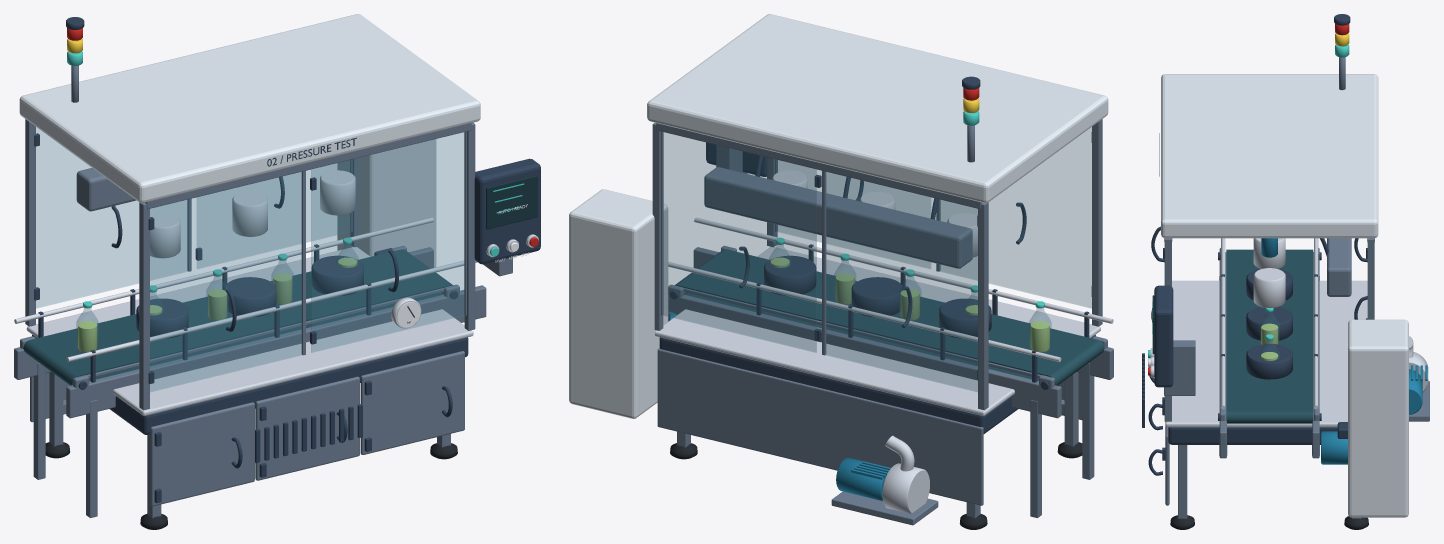
Rendered from gas.glb.
3 views of the same model, side by side, from view 1: azimuth 30°, elevation 25°; view 2: azimuth 150°, elevation 25°; view 3: azimuth 270°, elevation 25° (orthographic). The views are drawn at different scales.
Parts seen in each view (by area): view 1: Crown fascia.001, Polycarbonate safety door.004, Polycarbonate safety door.005, Leak tester top, Polycarbonate safety door.006, Continuous hygienic PU belt.012, Analyzer cabinet, Leak tester access door, Leak tester access door.002, Polycarbonate safety door.007, Leak tester access door.001, Folded side channel.002 (+25 smaller); view 2: Crown fascia.001, Polycarbonate safety door.007, Polycarbonate safety door.006, Leak tester rear, Analyzer cabinet, Leak tester top, Polycarbonate safety door.004, Continuous hygienic PU belt.012, Test manifold, Folded side channel.003, Leak tester chassis, Polycarbonate safety door.005 (+21 smaller); view 3: Crown fascia.001, Analyzer cabinet, Leak tester top, Continuous hygienic PU belt.012, Leak tester chassis, Test controller controller, Test manifold, Test controller mounting bracket, Test nest.002, Sealing bell.002, Test nest.001, Folded side channel.002 (+14 smaller).
Part boxes in pixels (bbox=[...]): Crown fascia.001: bbox=[19, 14, 480, 203]; Polycarbonate safety door.004: bbox=[150, 172, 301, 391]; Polycarbonate safety door.005: bbox=[311, 132, 464, 352]; Leak tester top: bbox=[26, 247, 473, 415]; Polycarbonate safety door.006: bbox=[36, 127, 187, 308]; Continuous hygienic PU belt.012: bbox=[23, 249, 452, 385]; Analyzer cabinet: bbox=[337, 139, 436, 267]; Leak tester access door: bbox=[150, 402, 254, 506]; Leak tester access door.002: bbox=[360, 351, 464, 454]; Polycarbonate safety door.007: bbox=[197, 160, 350, 268]; Leak tester access door.001: bbox=[255, 376, 359, 480]; Folded side channel.002: bbox=[66, 285, 486, 418]; Crown fascia.001: bbox=[647, 14, 1108, 203]; Polycarbonate safety door.007: bbox=[663, 132, 816, 352]; Polycarbonate safety door.006: bbox=[826, 172, 977, 391]; Leak tester rear: bbox=[657, 348, 983, 505]; Analyzer cabinet: bbox=[569, 189, 668, 418]; Leak tester top: bbox=[655, 247, 1100, 415]; Polycarbonate safety door.004: bbox=[940, 127, 1091, 308]; Continuous hygienic PU belt.012: bbox=[675, 249, 1104, 385]; Test manifold: bbox=[704, 167, 972, 268]; Folded side channel.003: bbox=[668, 295, 1061, 418]; Leak tester chassis: bbox=[659, 335, 1095, 433]; Polycarbonate safety door.005: bbox=[777, 160, 930, 268]; Crown fascia.001: bbox=[1161, 74, 1378, 238]; Analyzer cabinet: bbox=[1348, 319, 1408, 517]; Leak tester top: bbox=[1165, 280, 1367, 427]; Continuous hygienic PU belt.012: bbox=[1226, 249, 1313, 423]; Leak tester chassis: bbox=[1168, 427, 1337, 444]; Test controller controller: bbox=[1154, 285, 1173, 387]; Test manifold: bbox=[1327, 238, 1351, 296]; Test controller mounting bracket: bbox=[1164, 340, 1195, 395]; Test nest.002: bbox=[1246, 344, 1292, 379]; Sealing bell.002: bbox=[1253, 268, 1285, 307]; Test nest.001: bbox=[1246, 306, 1292, 340]; Folded side channel.002: bbox=[1219, 252, 1226, 458].
Size of the model in its own units: 3.12 by 2.95 by 1.99.
